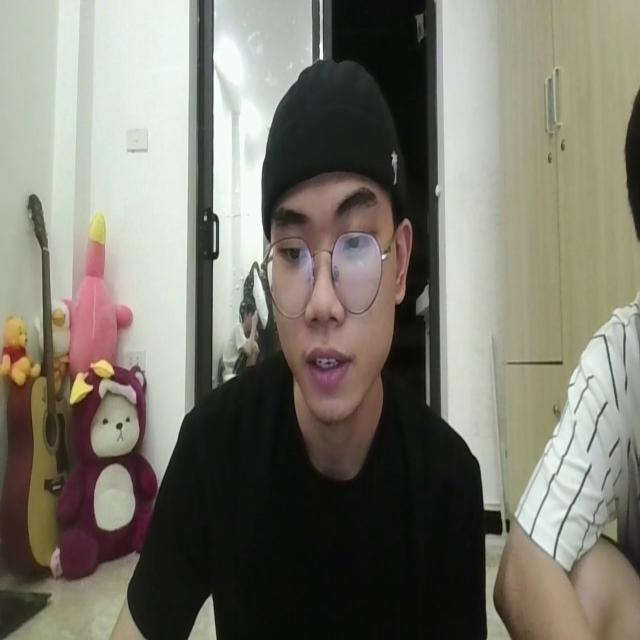extra_person: (495, 84, 640, 639)
student: (129, 50, 487, 640)
